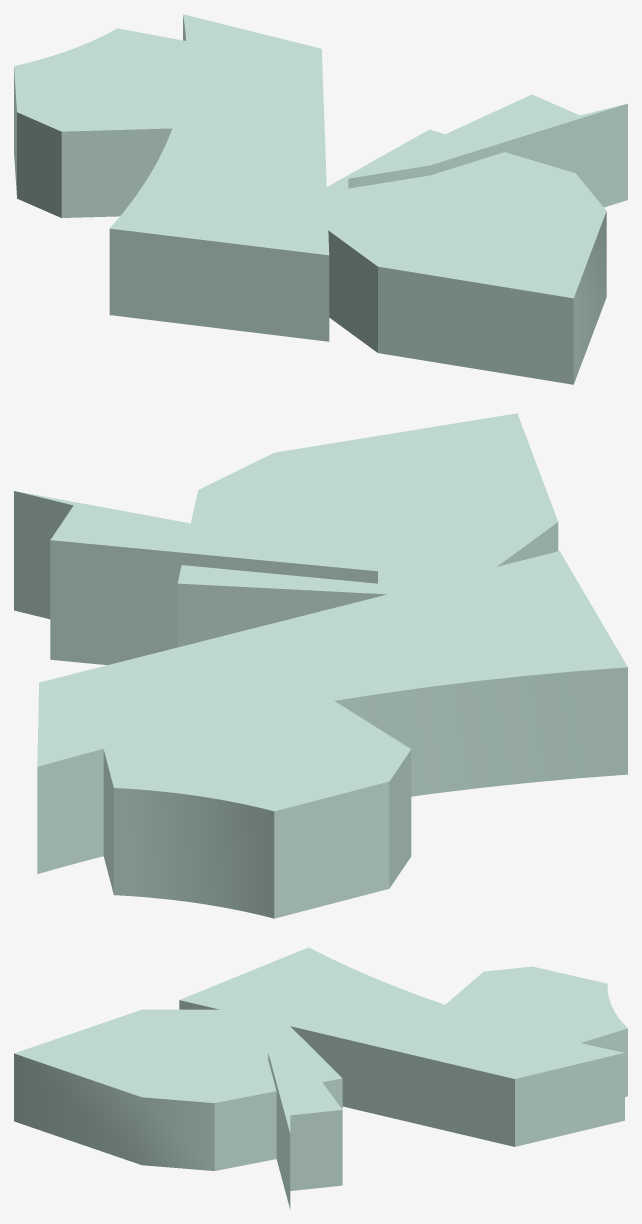
The picture shows the model from 3 angles, top to bottom: view 1: azimuth 30°, elevation 25°; view 2: azimuth 150°, elevation 25°; view 3: azimuth 270°, elevation 25°; orthographic projection. The views are drawn at different scales.
Visible parts, largest first — view 1: Renderer Node; view 2: Renderer Node; view 3: Renderer Node.
Boxes of the visible parts, <box> form: Renderer Node: <box>14,14,627,384</box>; Renderer Node: <box>14,413,627,918</box>; Renderer Node: <box>14,947,627,1209</box>.
Size of the model in its own units: 1.25 by 0.2266 by 1.66.
